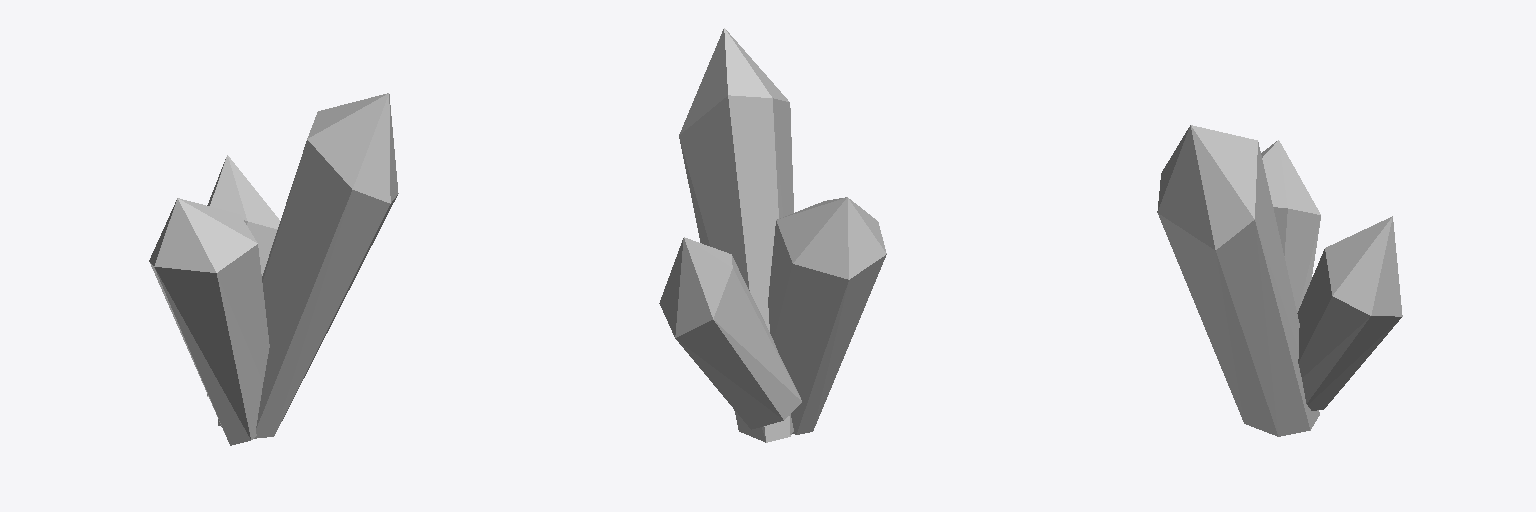
Rendered from crystal_1_002.obj.
3 renders of one model, left to right at view 1: azimuth 30°, elevation 25°; view 2: azimuth 150°, elevation 25°; view 3: azimuth 270°, elevation 25°, orthographic.
Parts seen in each view (by area): view 1: crystal_7_Cylinder.009; view 2: crystal_7_Cylinder.009; view 3: crystal_7_Cylinder.009.
Boxes of the visible parts, x1=… form: crystal_7_Cylinder.009: x1=149, y1=93, x2=398, y2=445; crystal_7_Cylinder.009: x1=659, y1=28, x2=886, y2=442; crystal_7_Cylinder.009: x1=1157, y1=125, x2=1402, y2=436.
Bounding box in the file's own units: 0.5501 × 0.83 × 0.5293.